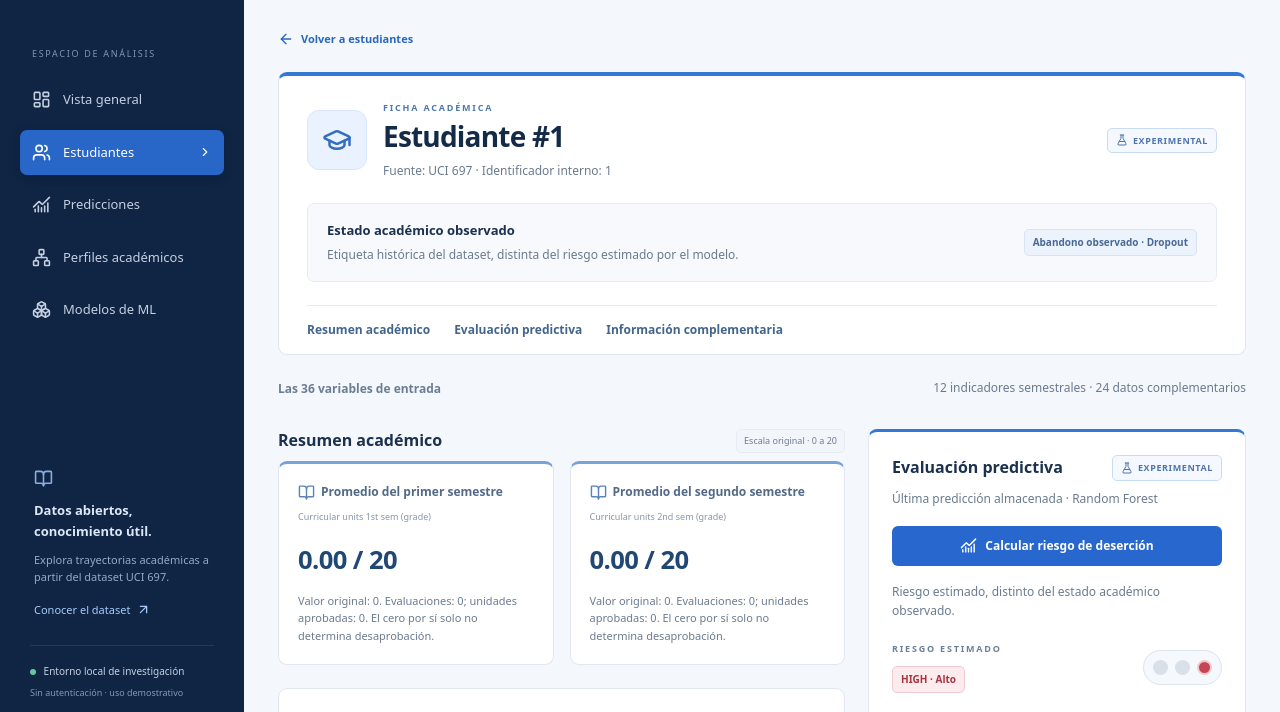
Scenario: flujos de la interfaz › calcula predicción y cluster exclusivamente por student_id
This screenshot has width=1280, height=712.
Expected: the heading "Estudiante #1" is shown, [383,117,564,155]
Click the button "Calcular riesgo de deserción" at (1057, 546), box [892,526,1222,566]
(page scrolled)
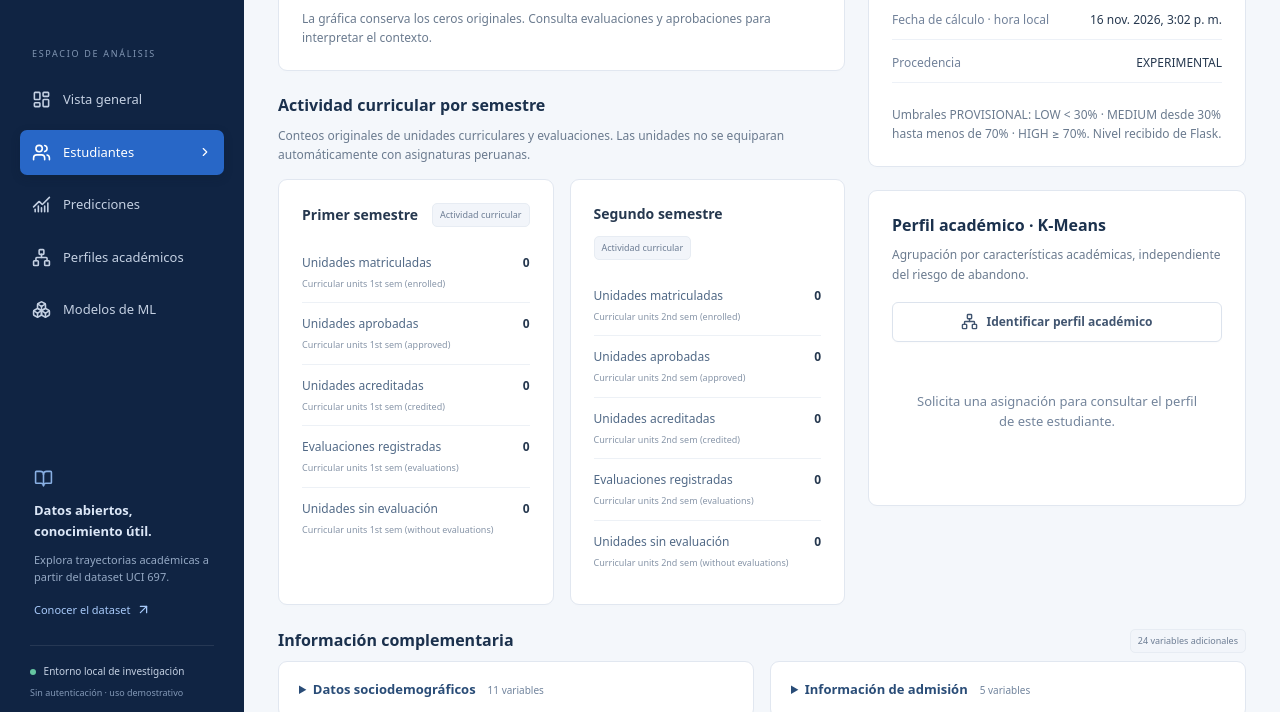
Click the button "Identificar perfil académico" at (1057, 322), box [892,302,1222,342]
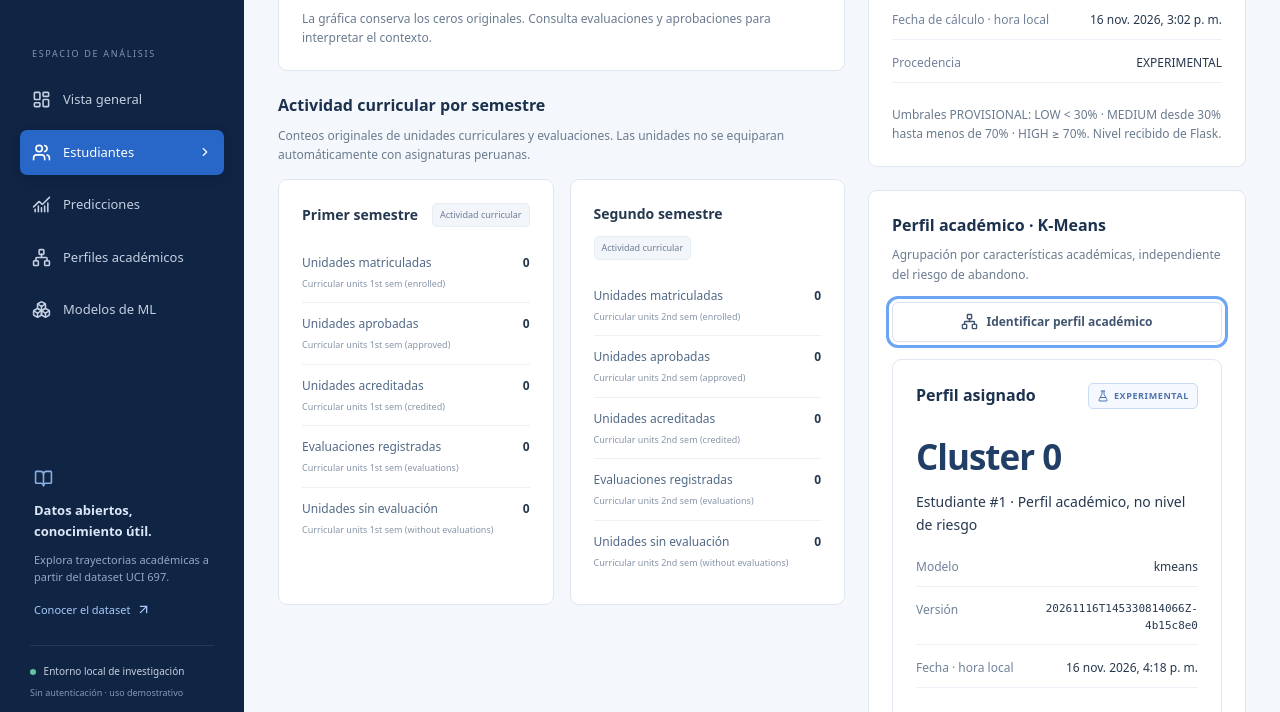
Expected: the heading "Perfil asignado" is shown, [916,384,1036,408]
